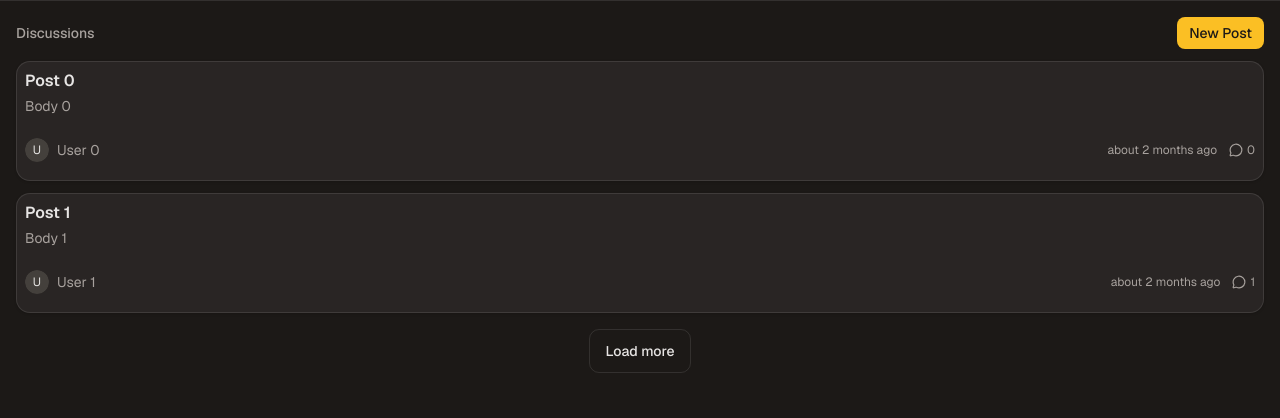
PostList › shows error message when load more fails
Click the button with test id "load-more-button": (640, 351) 588,329 -> 692,373
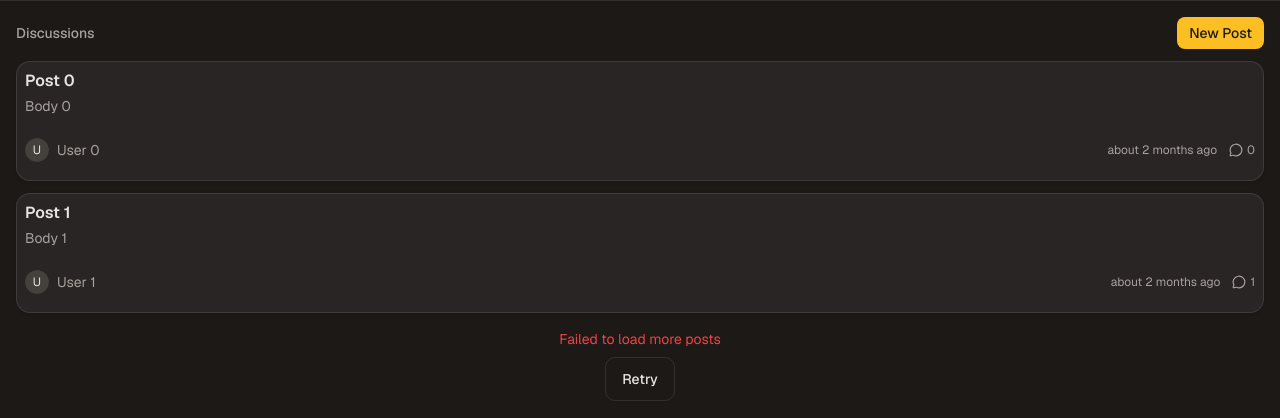
Now the text "Failed to load more posts" is shown, box 559,330 -> 721,348
Now the button "Retry" is shown, box 605,357 -> 675,401
